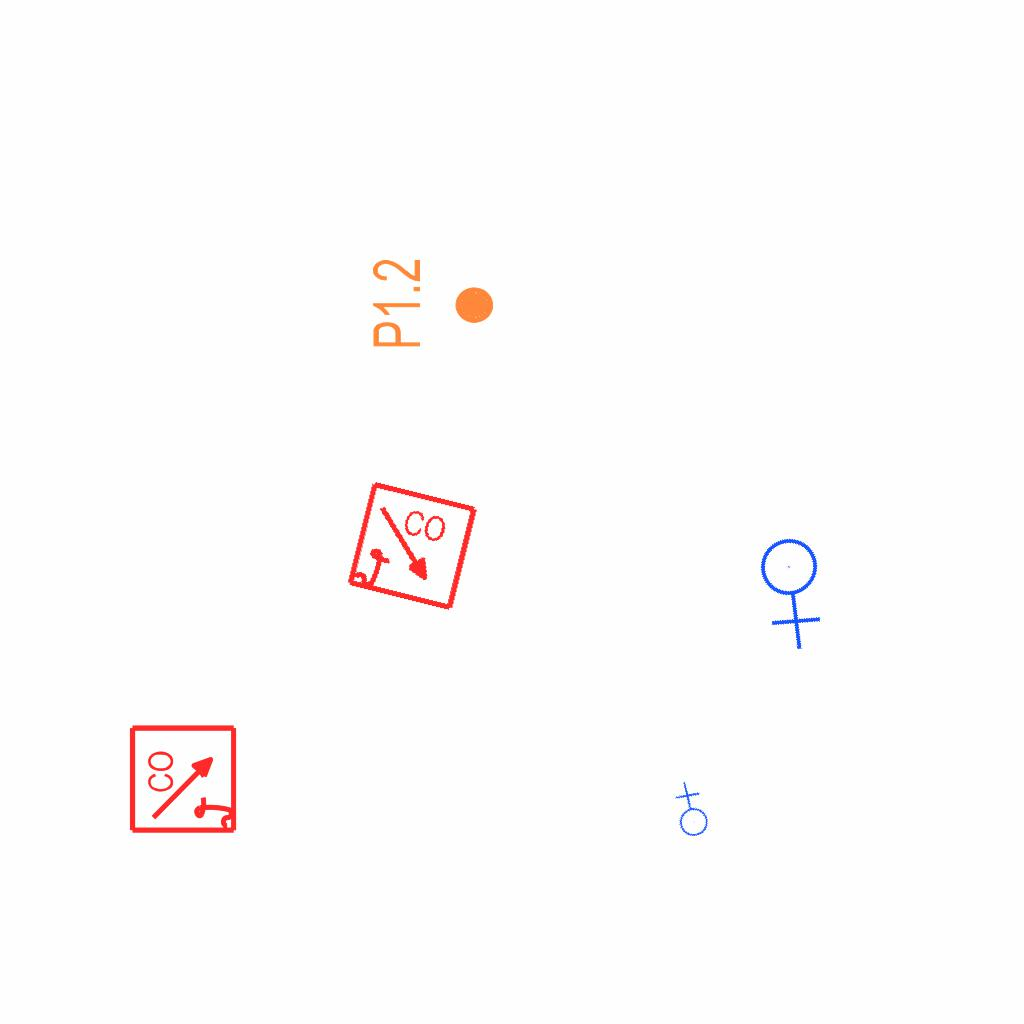Downlight_LED_Einbauleuchten_Flur: (369, 257, 497, 350)
Elektroanschluss_allgemein_230V_Geraeteanschlussdose_230V: (728, 519, 863, 655), (656, 779, 723, 846)
ROA_Rauchmelder_optisch_mit_Signalgeber_(Sockelsirene): (344, 479, 481, 616), (128, 722, 241, 835)
